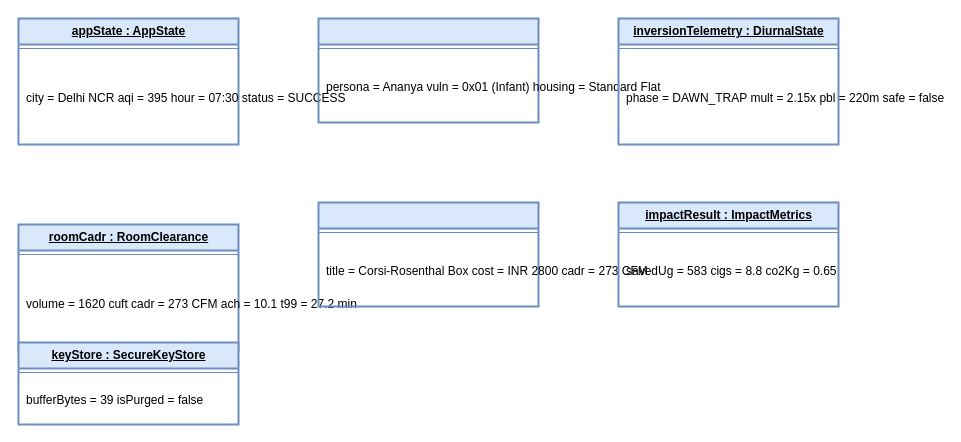
Image size: 961x442. Some labels were removed from this diagram. The shapes that lost their labels are listed below. From the top down, each one's box as (x1, y1, x2, y2) in pixels, then its label:
(317, 17, 539, 123): ananyaProfile : HouseholdContext
(317, 201, 539, 307): corsiBox : IaqHack
